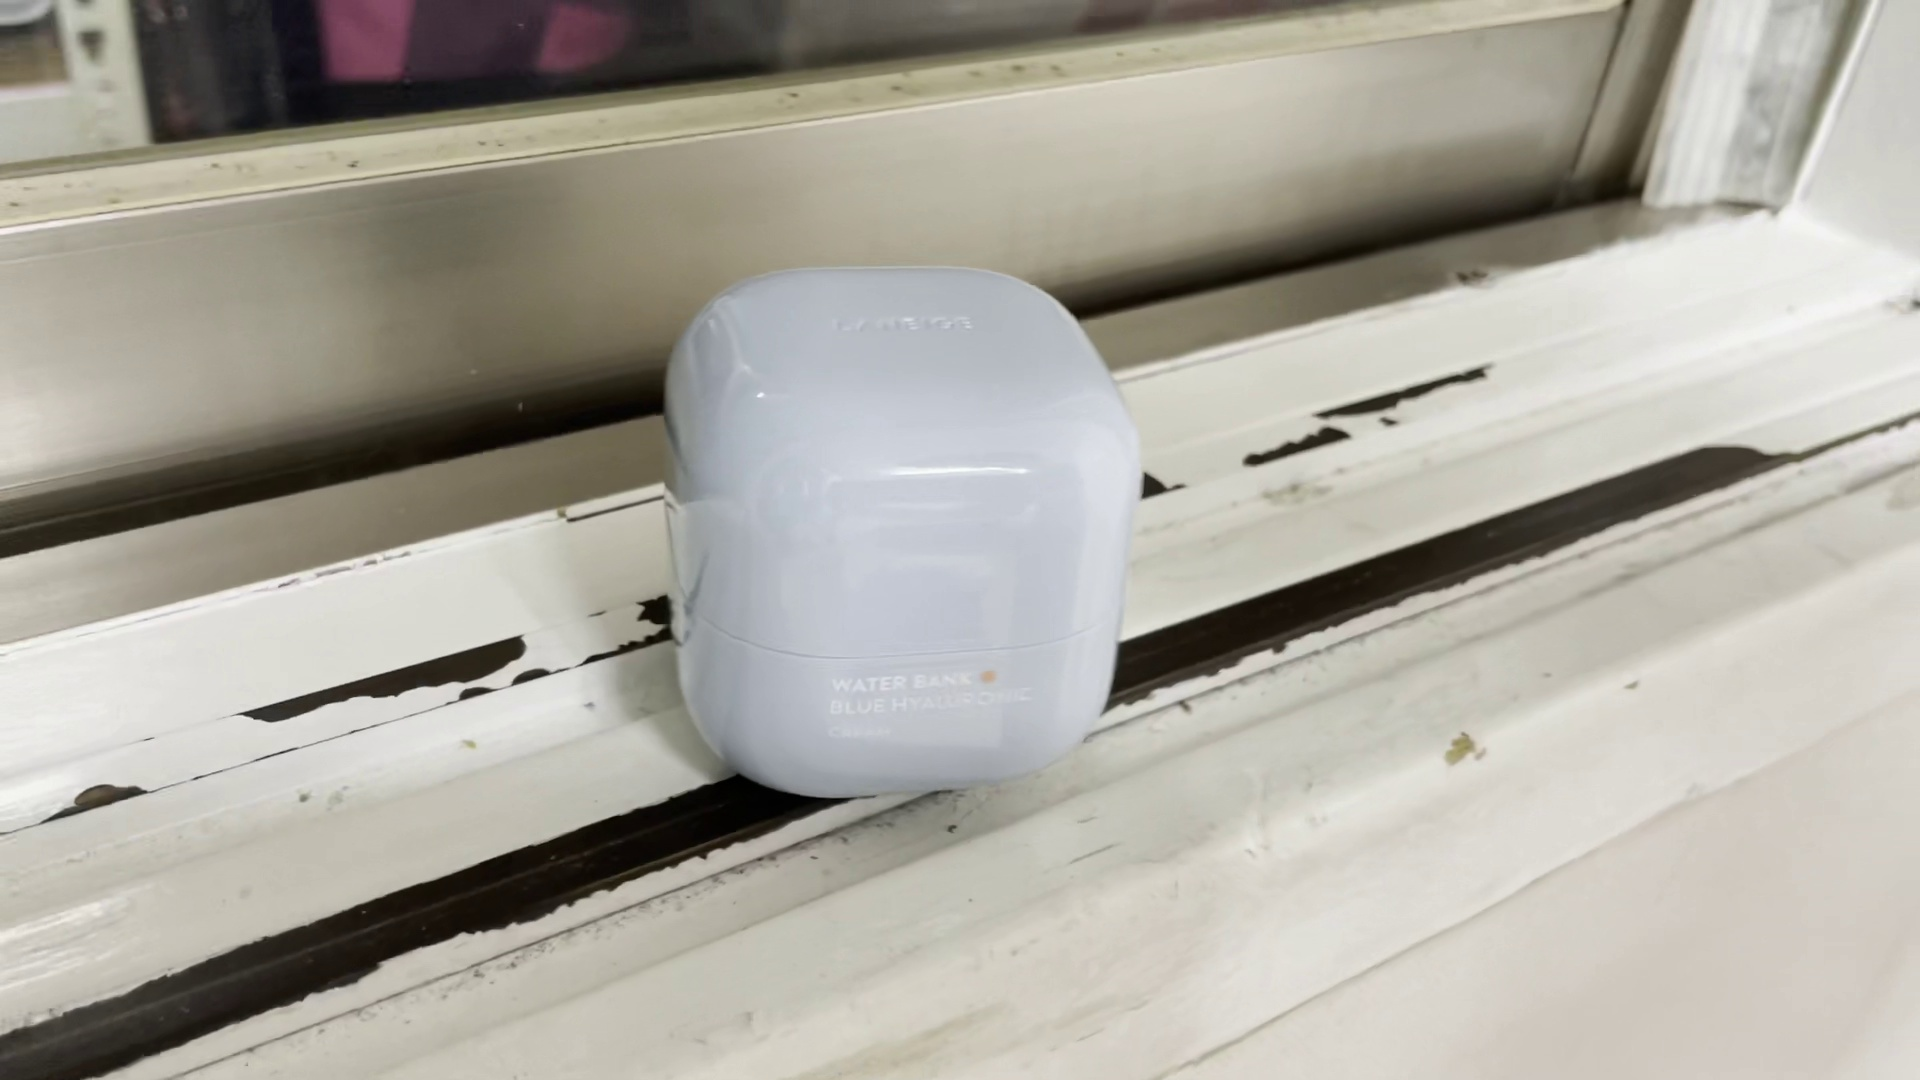cream: (673, 268, 1138, 794)
